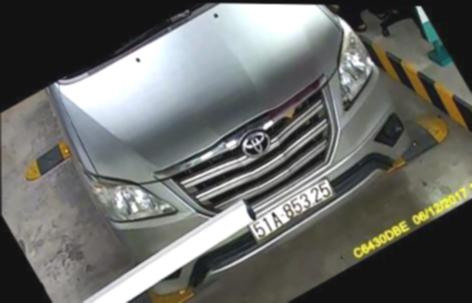License_Plate: (243, 178, 338, 249)
